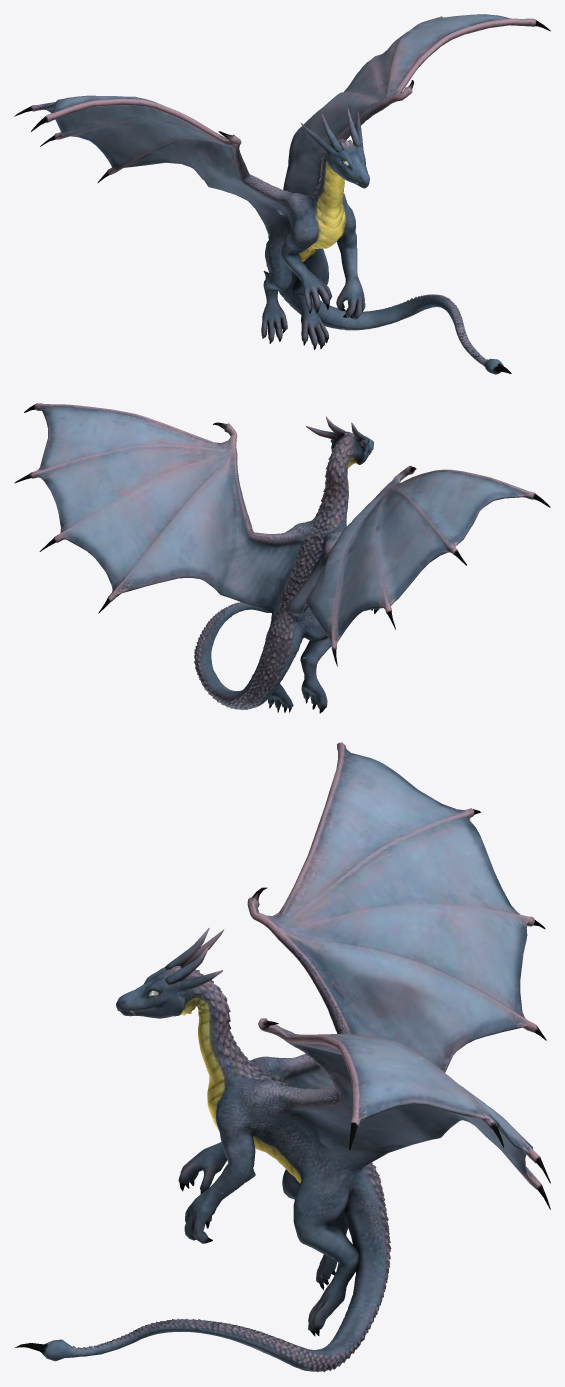
File: MZ4250 - Lantern Dragonette.glb
3 views of the same model, one above another, from view 1: azimuth 30°, elevation 25°; view 2: azimuth 150°, elevation 25°; view 3: azimuth 270°, elevation 25° (orthographic). The views are drawn at different scales.
Parts seen in each view (by area): view 1: Dragonette, Lantern.001; view 2: Dragonette, Lantern.001; view 3: Dragonette, Lantern.001.
Boxes of the visible parts, x1=… form: Dragonette, Lantern.001: x1=14, y1=14, x2=550, y2=374; Dragonette, Lantern.001: x1=14, y1=403, x2=550, y2=713; Dragonette, Lantern.001: x1=14, y1=742, x2=550, y2=1372.
Bounding box in the file's own units: 99.65 × 53.75 × 62.66.
Materials: 1 (1 with a texture image).
